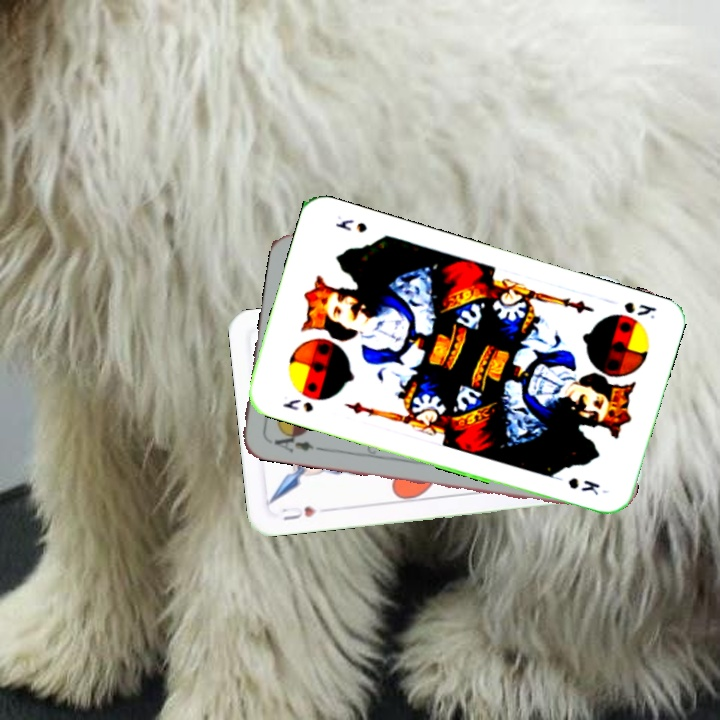EA: (270, 426, 324, 456)
HU: (277, 502, 319, 523)
SK: (620, 297, 659, 322), (279, 395, 316, 415)
